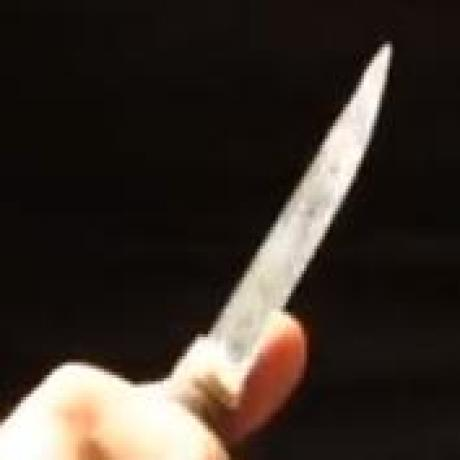weapon: (189, 42, 392, 384)
